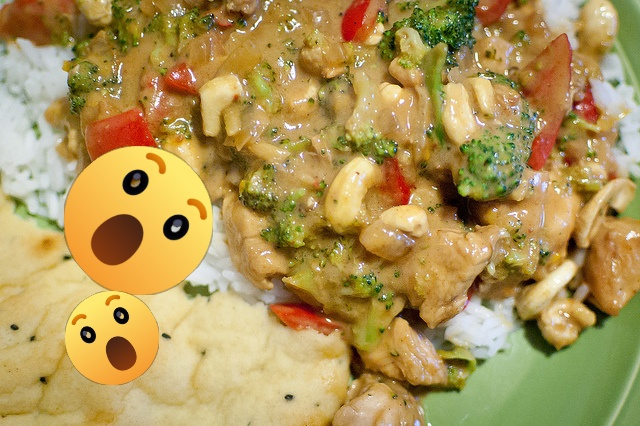wow: (64, 146, 213, 295), (65, 291, 159, 385)
